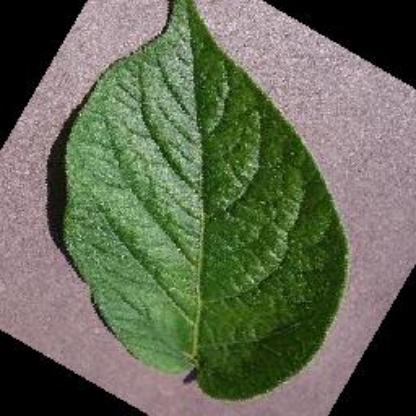Healthy-plant: (51, 2, 352, 400)
